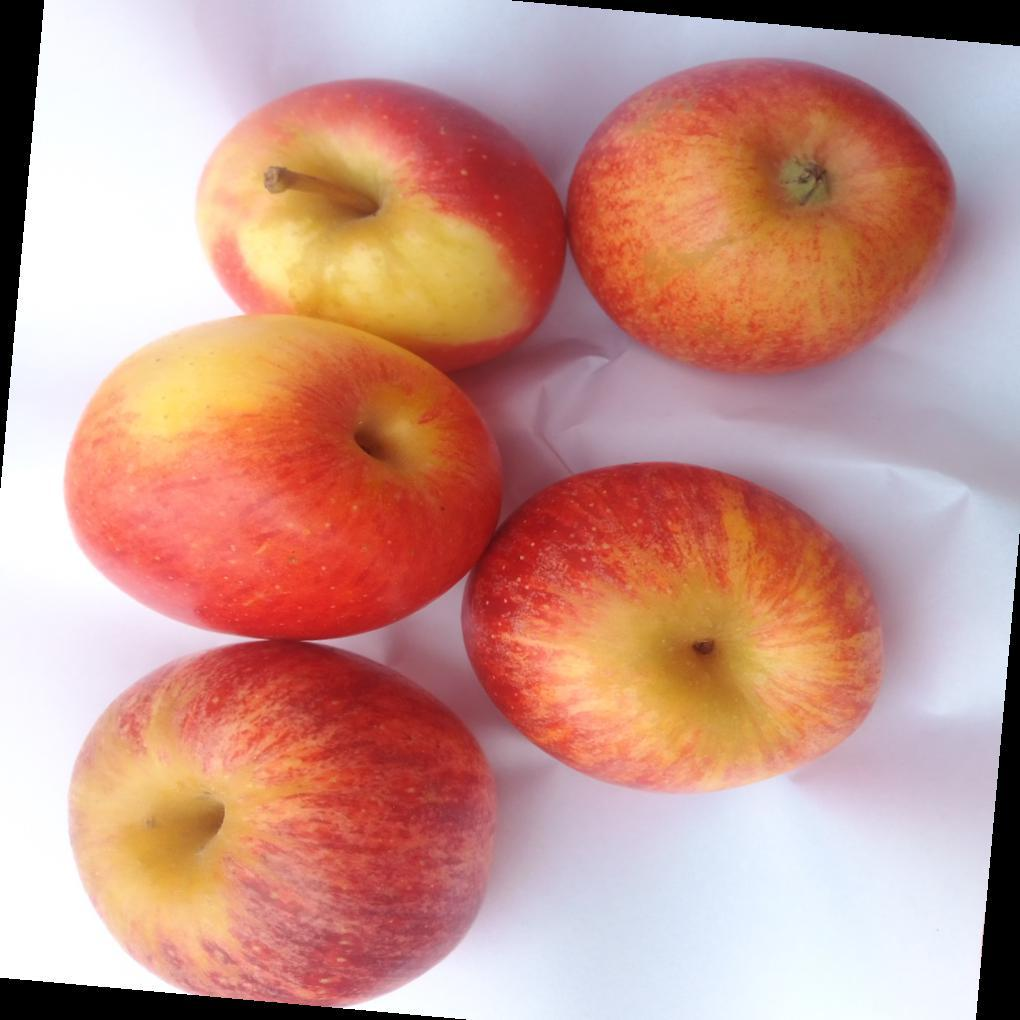FreshGuava: (61, 59, 957, 997)
